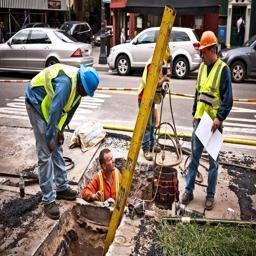hat: (73, 56, 110, 104), (188, 22, 229, 63)
no hat: (98, 142, 126, 175)
vest: (23, 63, 80, 136), (196, 62, 242, 141), (137, 56, 171, 125), (90, 168, 130, 217)
